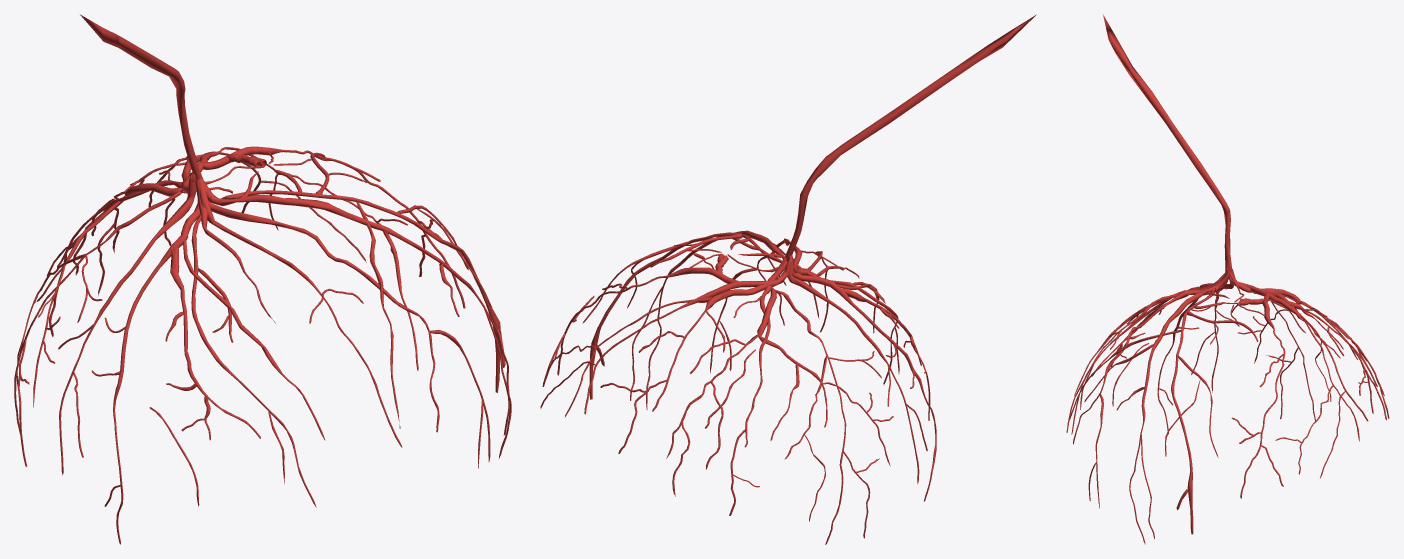
3 renders of one model, left to right at view 1: azimuth 30°, elevation 25°; view 2: azimuth 150°, elevation 25°; view 3: azimuth 270°, elevation 25°, orthographic. The views are drawn at different scales.
Parts seen in each view (by area): view 1: 左侧视网膜中央动脉; view 2: 左侧视网膜中央动脉; view 3: 左侧视网膜中央动脉.
Boxes of the visible parts, bbox=[...] form: 左侧视网膜中央动脉: bbox=[14, 14, 511, 544]; 左侧视网膜中央动脉: bbox=[540, 14, 1036, 544]; 左侧视网膜中央动脉: bbox=[1066, 14, 1389, 544].
Bounding box in the file's own units: 0.0431 × 0.0495 × 0.037.
